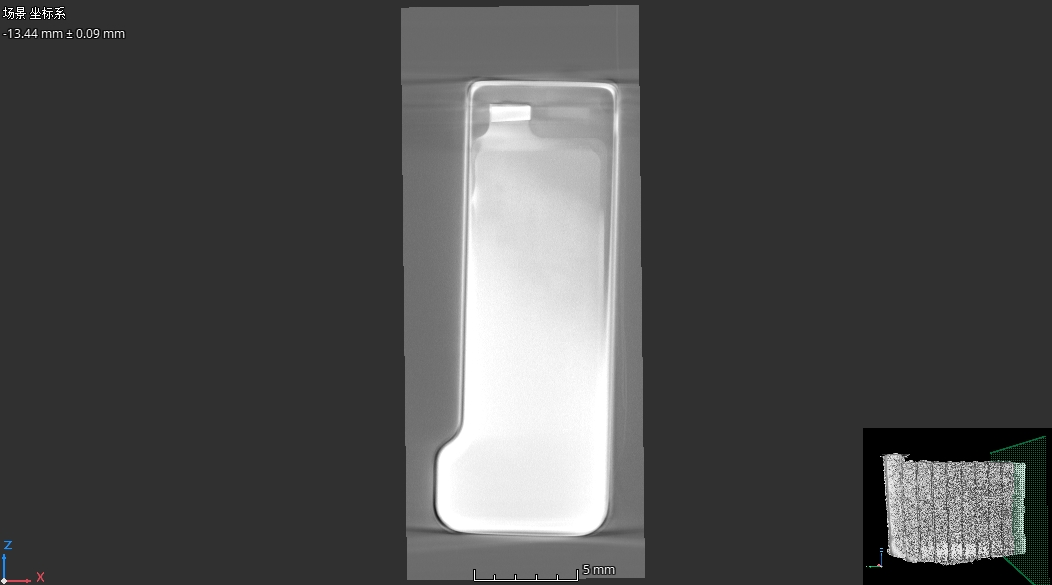damage: (469, 156, 480, 215)
